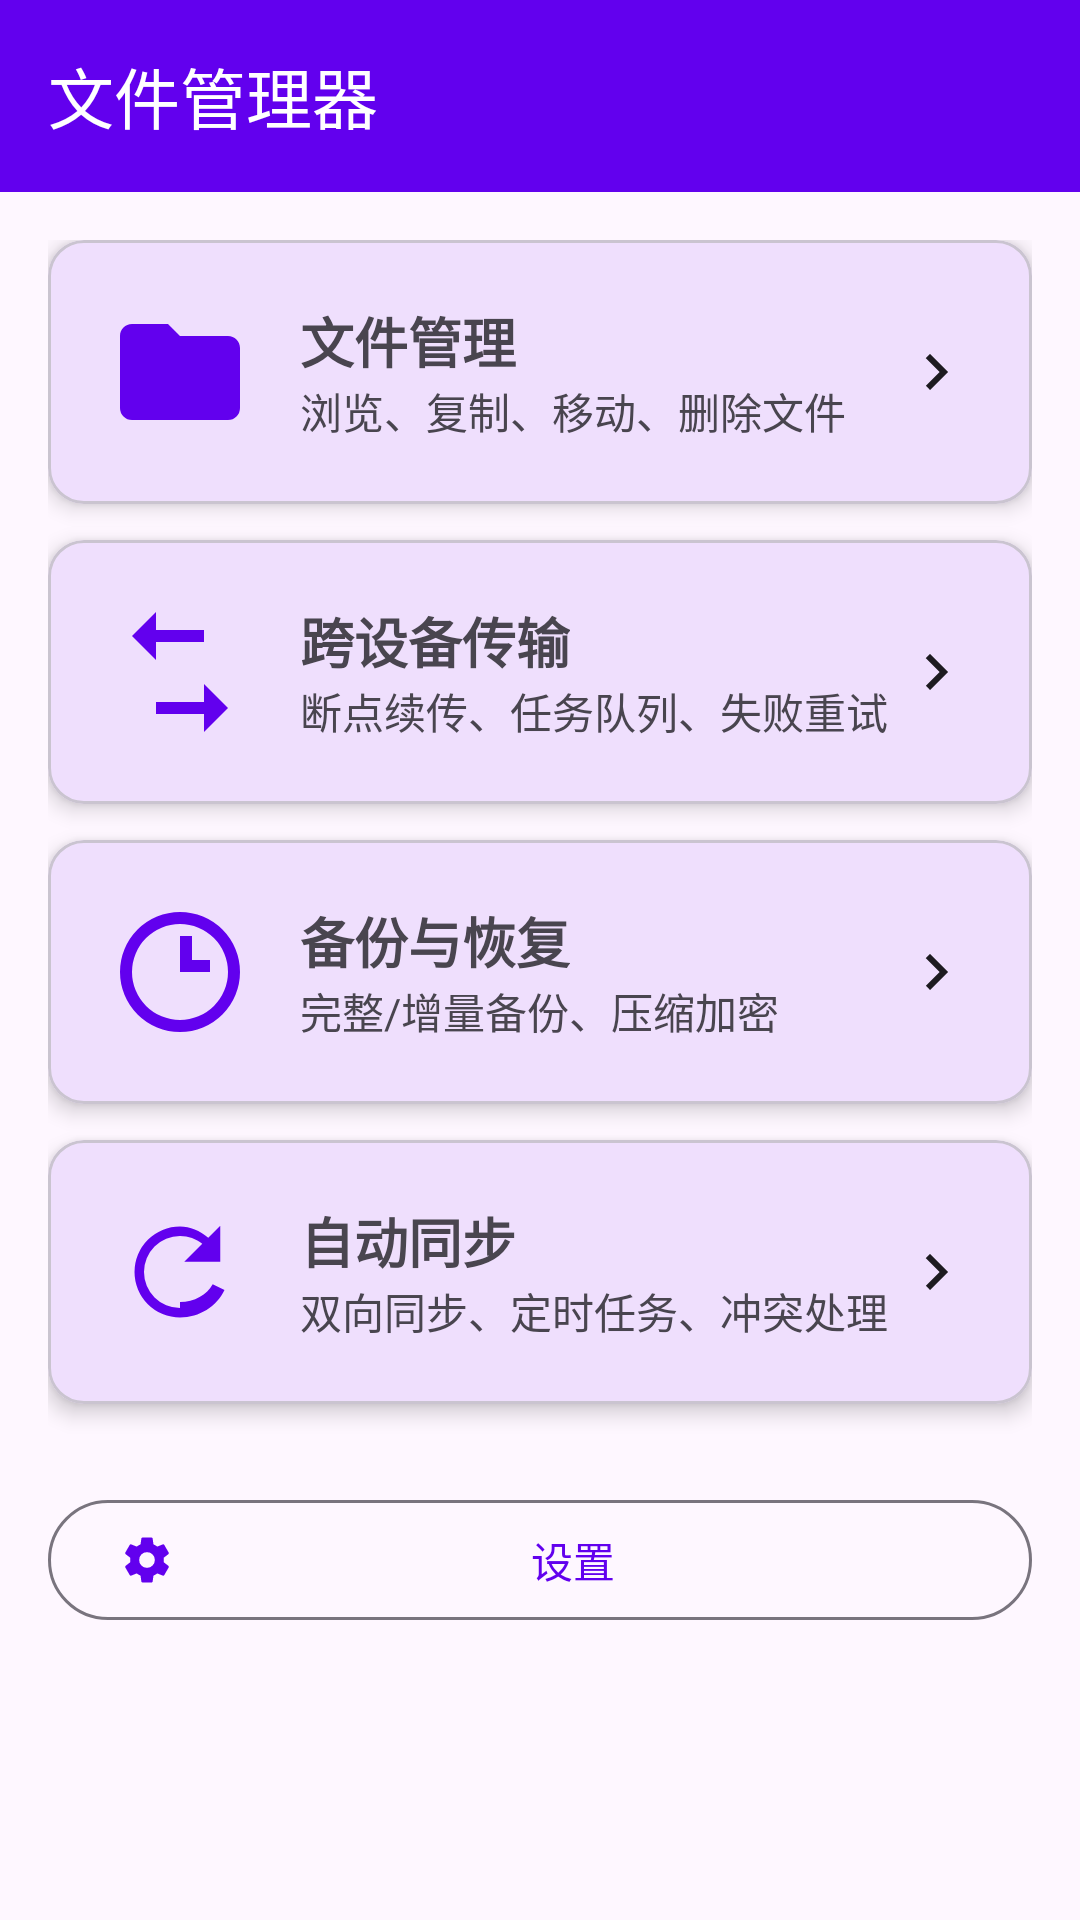

Icons on this 1080px x 1920px Android screen, each with its box as (x1, y1, x2, y2):
文件传输: (132, 612, 228, 732)
进入: (926, 354, 948, 390), (926, 654, 948, 690), (926, 954, 948, 990), (926, 1254, 948, 1290)
